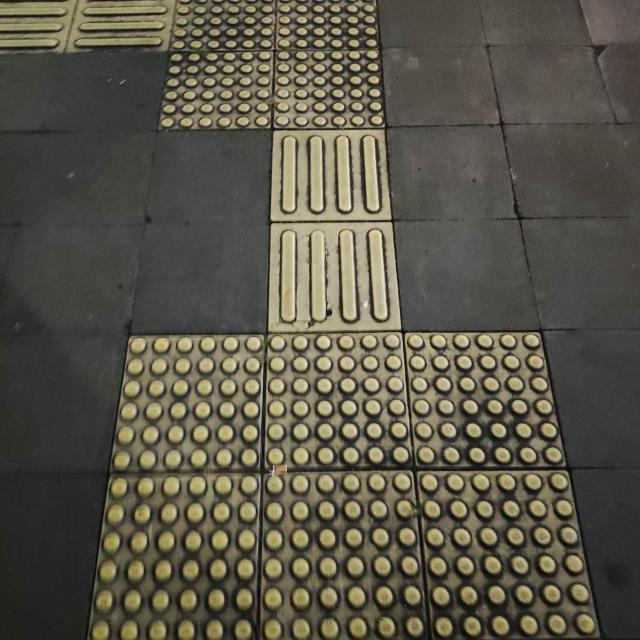kiri: (46, 0, 391, 170)
